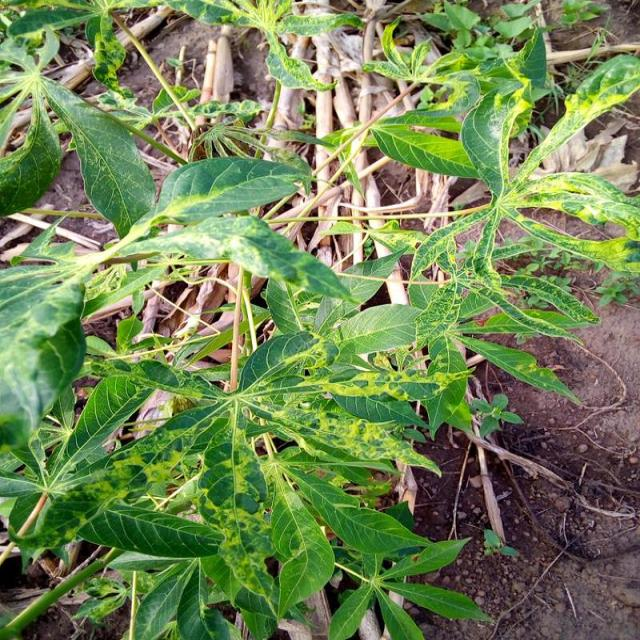cassava leaf: (0, 5, 638, 638), (39, 75, 155, 241), (0, 259, 86, 466)
